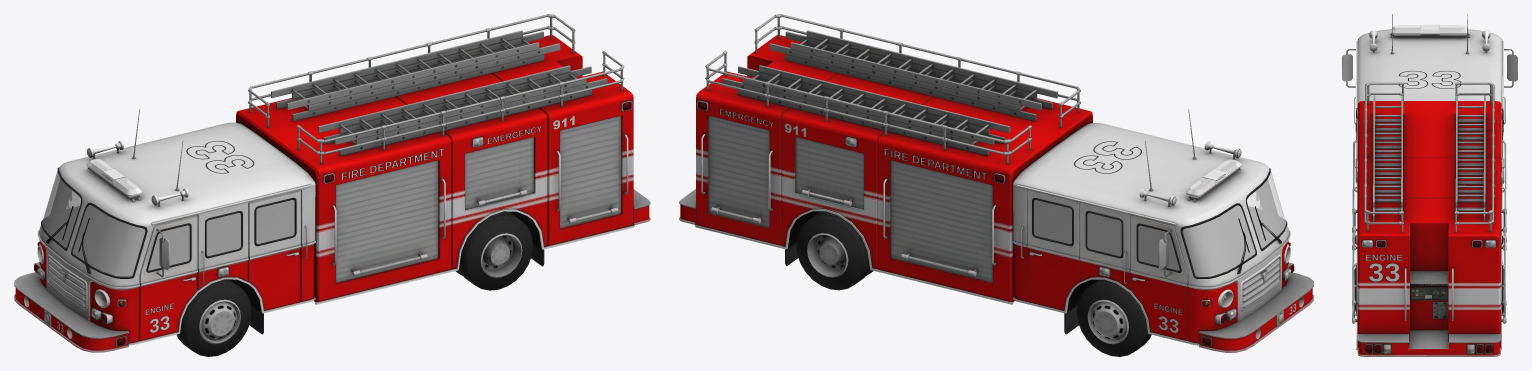
Rendered from firetruck.glb.
3 views of the same model, side by side, from view 1: azimuth 30°, elevation 25°; view 2: azimuth 150°, elevation 25°; view 3: azimuth 270°, elevation 25° (orthographic). The views are drawn at different scales.
Parts seen in each view (by area): view 1: body; view 2: body; view 3: body.
Boxes of the visible parts, x1,y1,x2,y2 form: body: [14, 14, 650, 356]; body: [679, 14, 1313, 356]; body: [1342, 14, 1517, 356].
Size of the model in its own units: 9 by 3.16 by 2.79.
5 materials, 3 textured.
